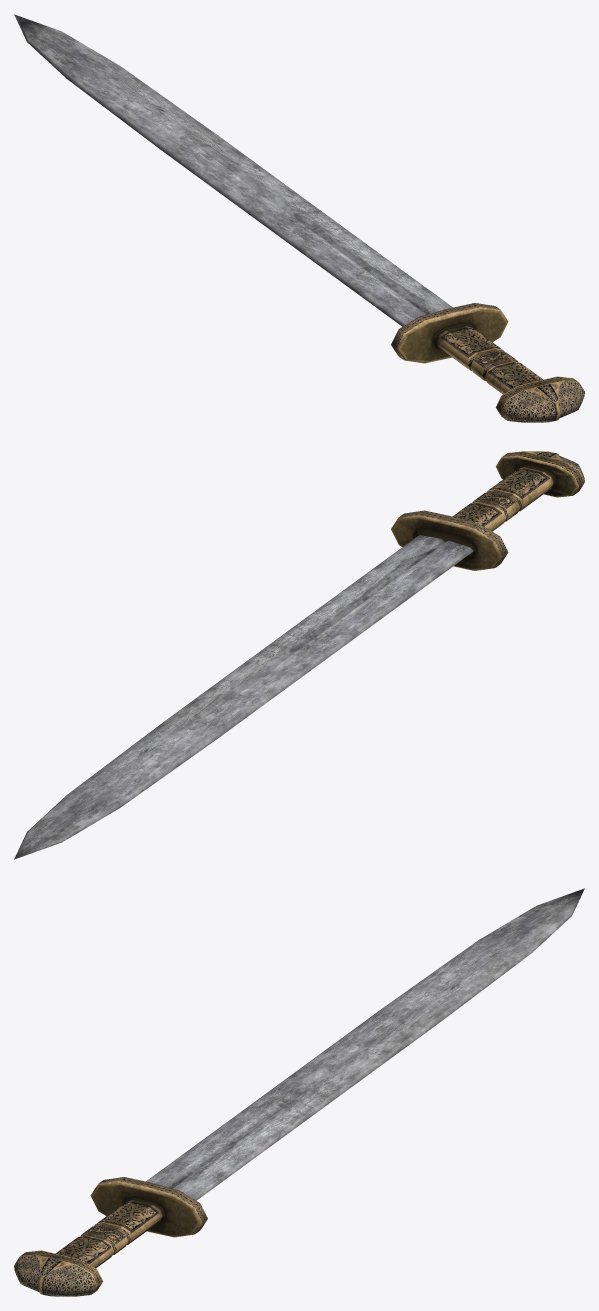
File: Epee_uhtred.glb
3 views of the same model, one above another, from view 1: azimuth 30°, elevation 25°; view 2: azimuth 150°, elevation 25°; view 3: azimuth 330°, elevation 25° (orthographic).
Visible parts, largest first — view 1: defaultobject; view 2: defaultobject; view 3: defaultobject.
Part boxes in pixels (x1,y1,x2,y2): defaultobject: [14, 14, 584, 422]; defaultobject: [14, 451, 584, 859]; defaultobject: [14, 888, 584, 1296].
Size of the model in its own units: 0.8032 by 0.3059 by 6.77.
1 material, 1 textured.
